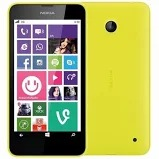nokia: (8, 2, 86, 157)
